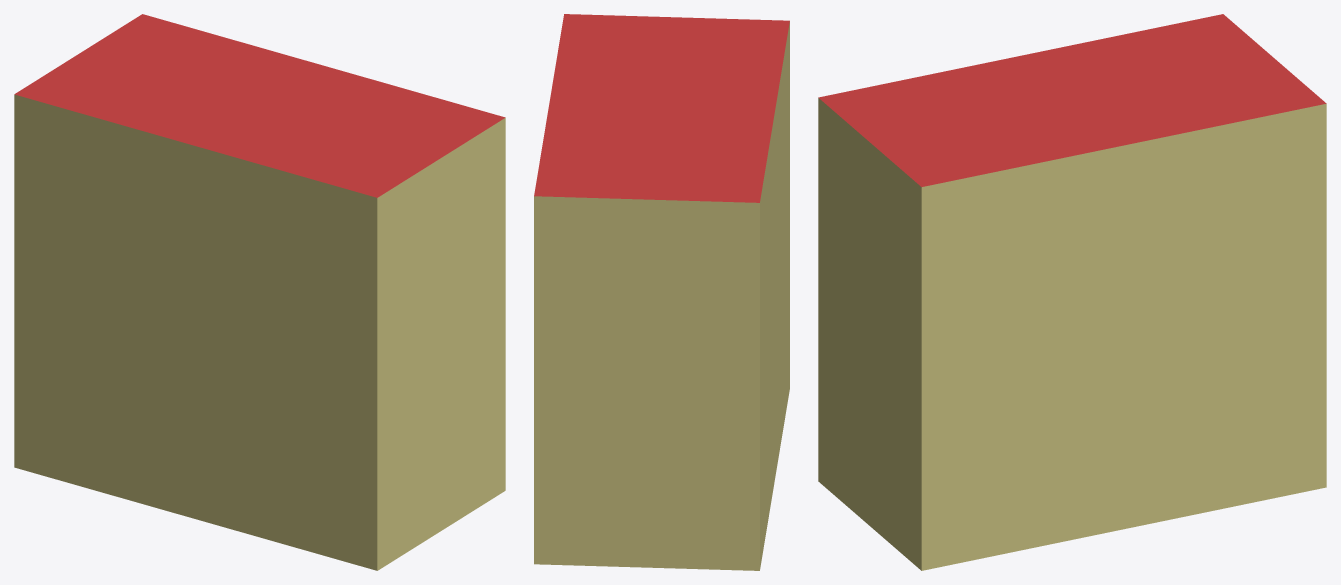
3 renders of one model, left to right at view 1: azimuth 30°, elevation 25°; view 2: azimuth 150°, elevation 25°; view 3: azimuth 270°, elevation 25°, orthographic. The views are drawn at different scales.
Bounding box in the file's own units: 5.41 × 6.71 × 5.59.
